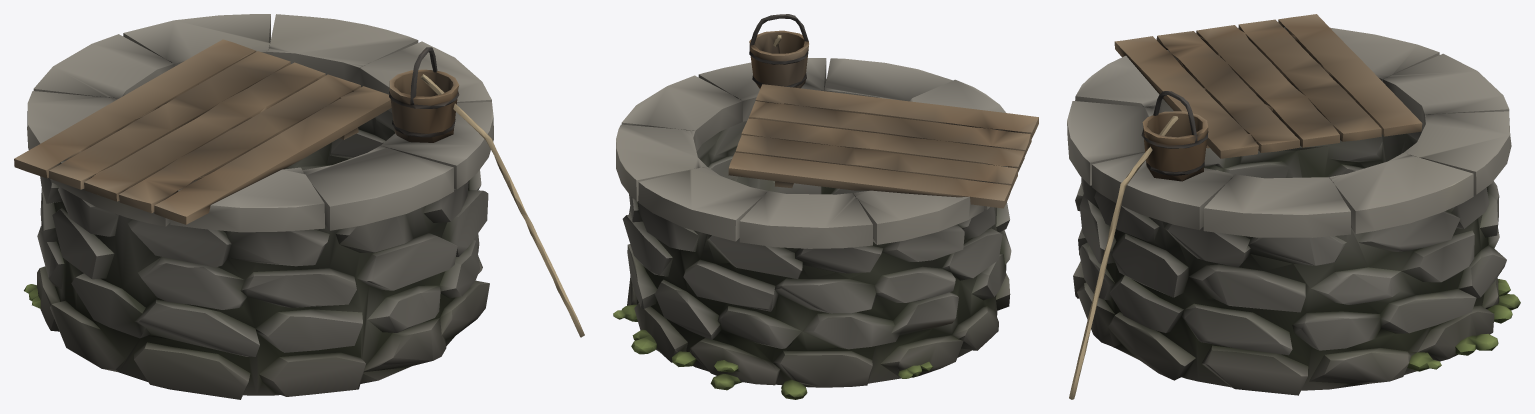
The model's file is lm_well_b.glb.
3 views of the same model, side by side, from view 1: azimuth 30°, elevation 25°; view 2: azimuth 150°, elevation 25°; view 3: azimuth 270°, elevation 25° (orthographic). The views are drawn at different scales.
Visible parts, largest first — view 1: lm_well_b_LOD0; view 2: lm_well_b_LOD0; view 3: lm_well_b_LOD0.
Part boxes in pixels (<box>): lm_well_b_LOD0: <box>14,14,584,399</box>; lm_well_b_LOD0: <box>613,14,1038,399</box>; lm_well_b_LOD0: <box>1067,14,1520,399</box>.
Size of what is drawn, in the model's own units: 2.34 by 1.42 by 2.19.
